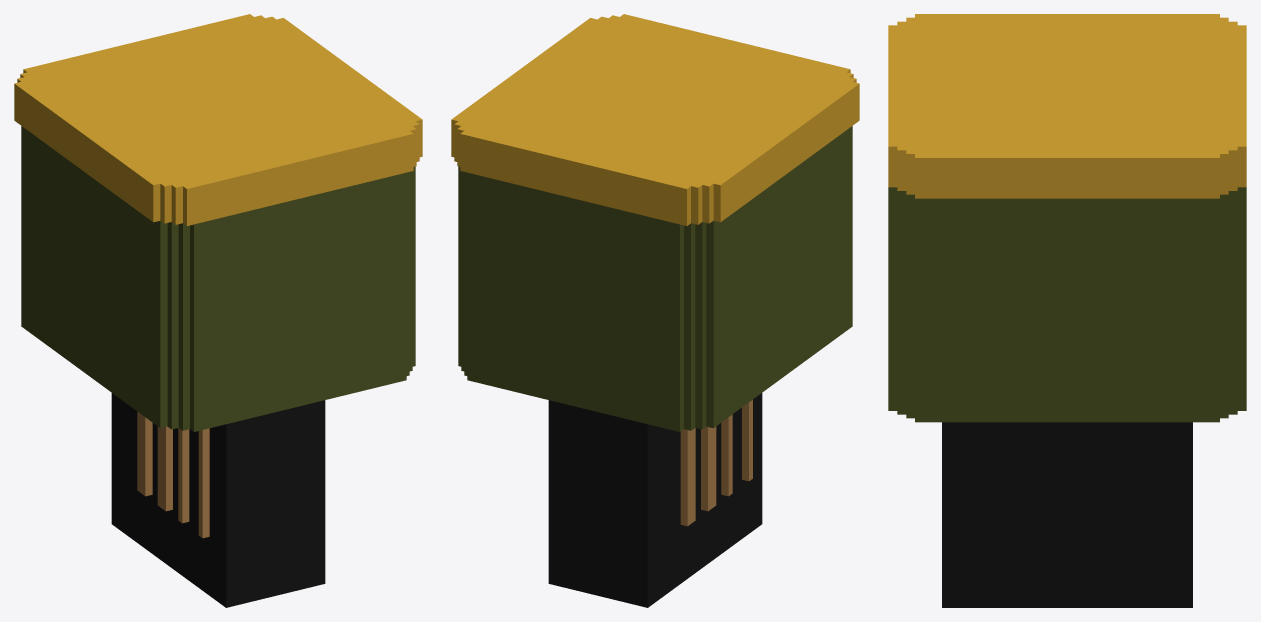
File: gloves_trooper_worn_palm.glb
3 views of the same model, side by side, from view 1: azimuth 30°, elevation 25°; view 2: azimuth 150°, elevation 25°; view 3: azimuth 270°, elevation 25° (orthographic). The views are drawn at different scales.
Parts seen in each view (by area): view 1: gloves_trooper_worn_palm:compound; view 2: gloves_trooper_worn_palm:compound; view 3: gloves_trooper_worn_palm:compound.
Part boxes in pixels (box(x1,y1,x2,y2)): gloves_trooper_worn_palm:compound: box(14, 14, 422, 607); gloves_trooper_worn_palm:compound: box(451, 14, 859, 607); gloves_trooper_worn_palm:compound: box(888, 14, 1246, 607).
Size of the model in its own units: 0.152 by 0.244 by 0.16.
